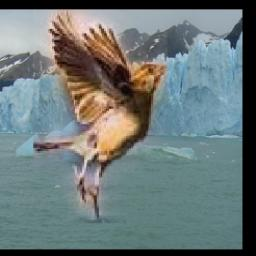Sparrow: (34, 9, 169, 223)
